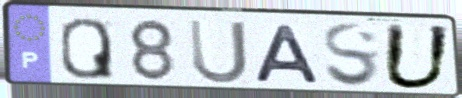8: (126, 17, 179, 84)
A: (249, 23, 324, 85)
Q: (58, 15, 117, 81)
S: (320, 21, 382, 90)
U: (380, 22, 455, 93), (186, 17, 251, 86)
